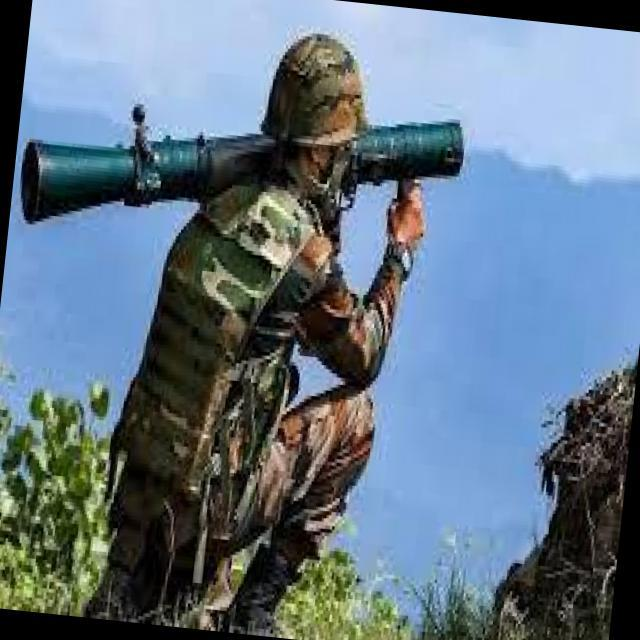rocket: (19, 72, 466, 264)
